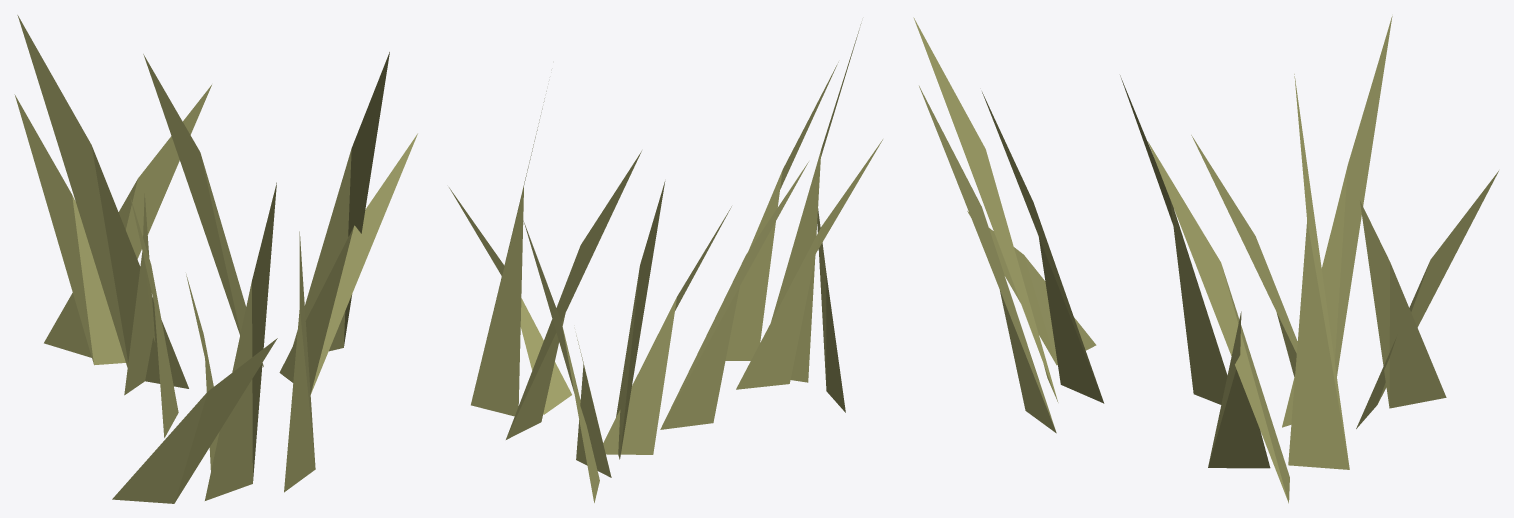
Rendered from grass-1.glb.
3 renders of one model, left to right at view 1: azimuth 30°, elevation 25°; view 2: azimuth 150°, elevation 25°; view 3: azimuth 270°, elevation 25°, orthographic. The views are drawn at different scales.
Visible parts, largest first — view 1: Grass tuft.001; view 2: Grass tuft.001; view 3: Grass tuft.001.
Part boxes in pixels (<box>): Grass tuft.001: <box>14,15,417,503</box>; Grass tuft.001: <box>449,23,882,502</box>; Grass tuft.001: <box>913,16,1498,503</box>.
Size of the model in its own units: 0.7614 by 0.7056 by 1.03.
